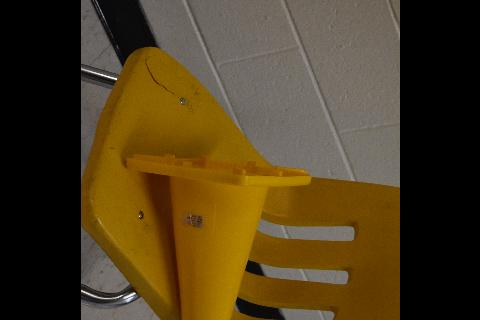cone: (124, 154, 312, 320)
